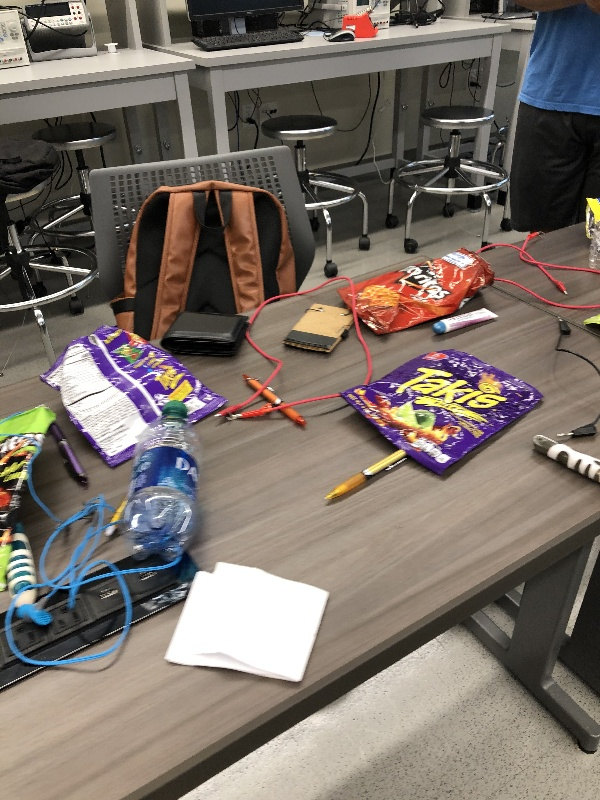bag: (39, 316, 229, 473), (336, 348, 548, 482), (333, 248, 500, 338), (1, 401, 59, 595), (579, 192, 600, 244)
bottle: (119, 397, 215, 567), (589, 237, 600, 272)
